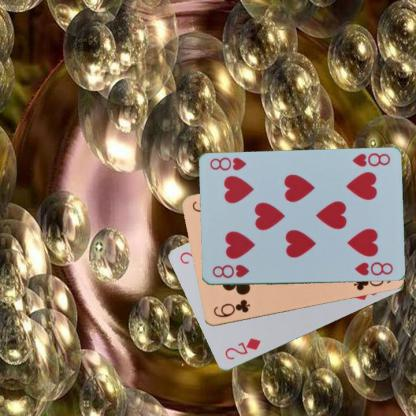2d: (222, 336, 262, 362)
6c: (210, 297, 252, 319)
8h: (350, 151, 391, 169), (210, 262, 250, 280)
